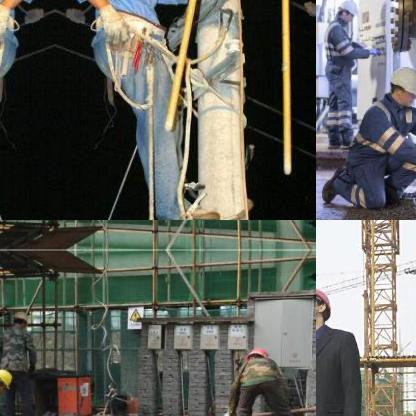Helmet: (387, 62, 415, 106), (316, 278, 336, 333), (334, 0, 358, 26), (246, 345, 272, 367), (0, 365, 14, 391), (10, 306, 28, 326)
